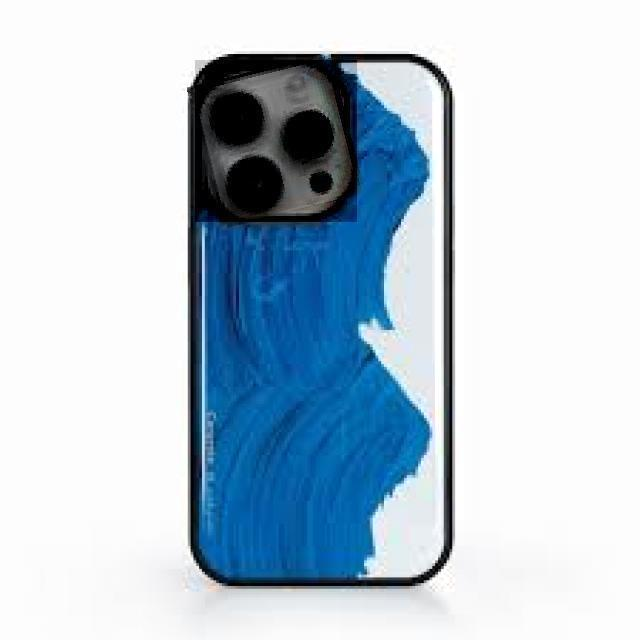lens_back: (204, 84, 268, 151), (223, 154, 288, 218), (277, 106, 335, 164)
phone: (179, 50, 458, 591)
